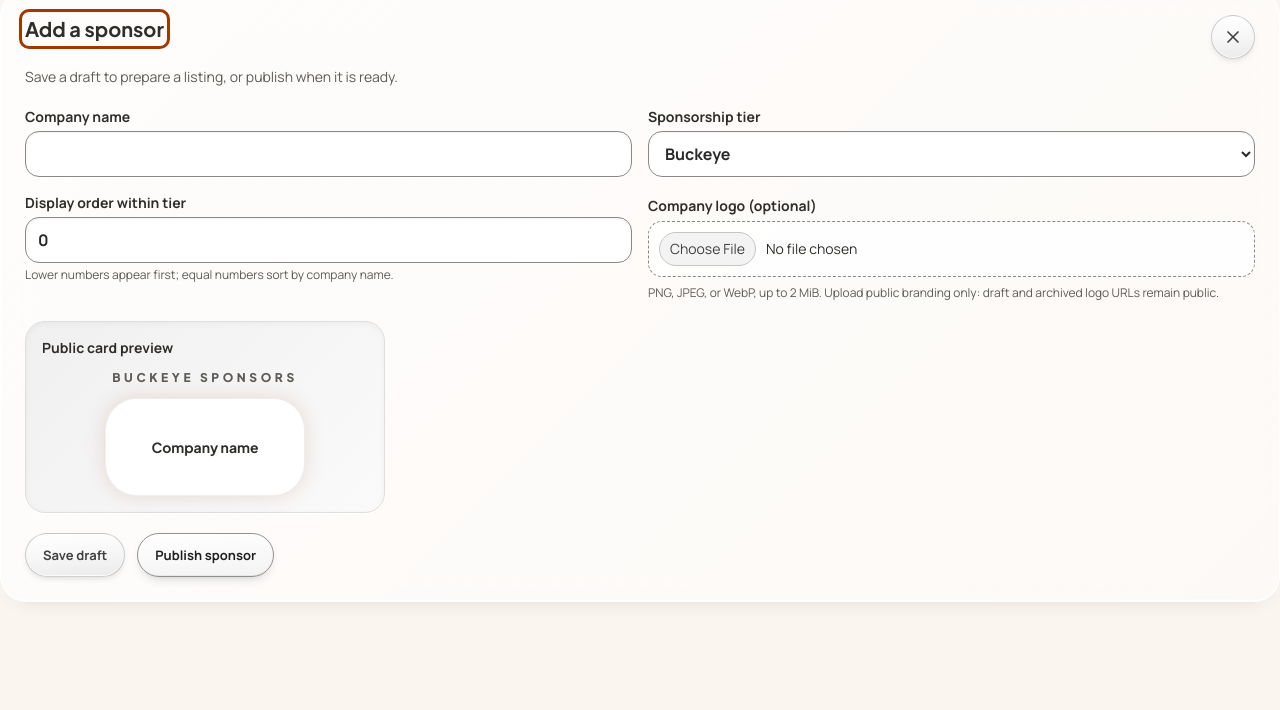
Test case: sponsor editor interactions › compares an interrupted creation with edited retry fields, then updates the existing record explicitly
The width and height of the screenshot is (1280, 710).
In the field labelled "Company name": {"x": 328, "y": 154} [25,131,632,177], type "First name"
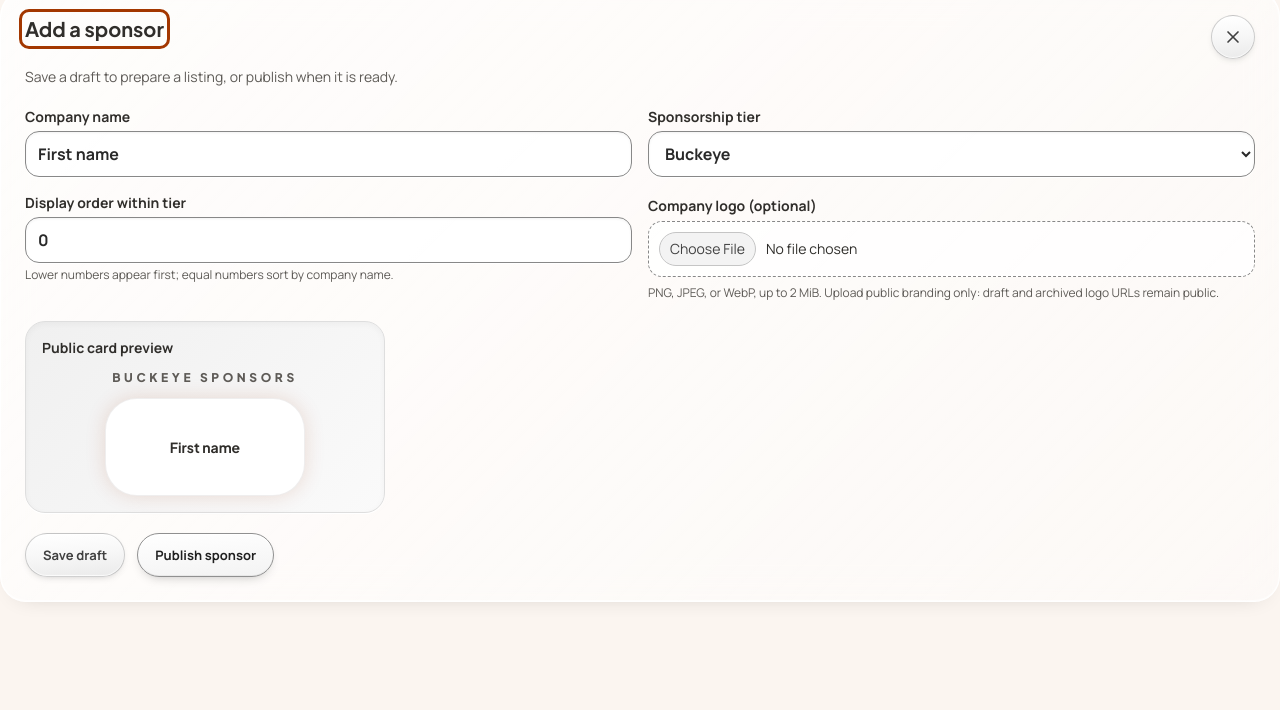
Click the button "Save draft": {"x": 75, "y": 555} [25,533,125,577]
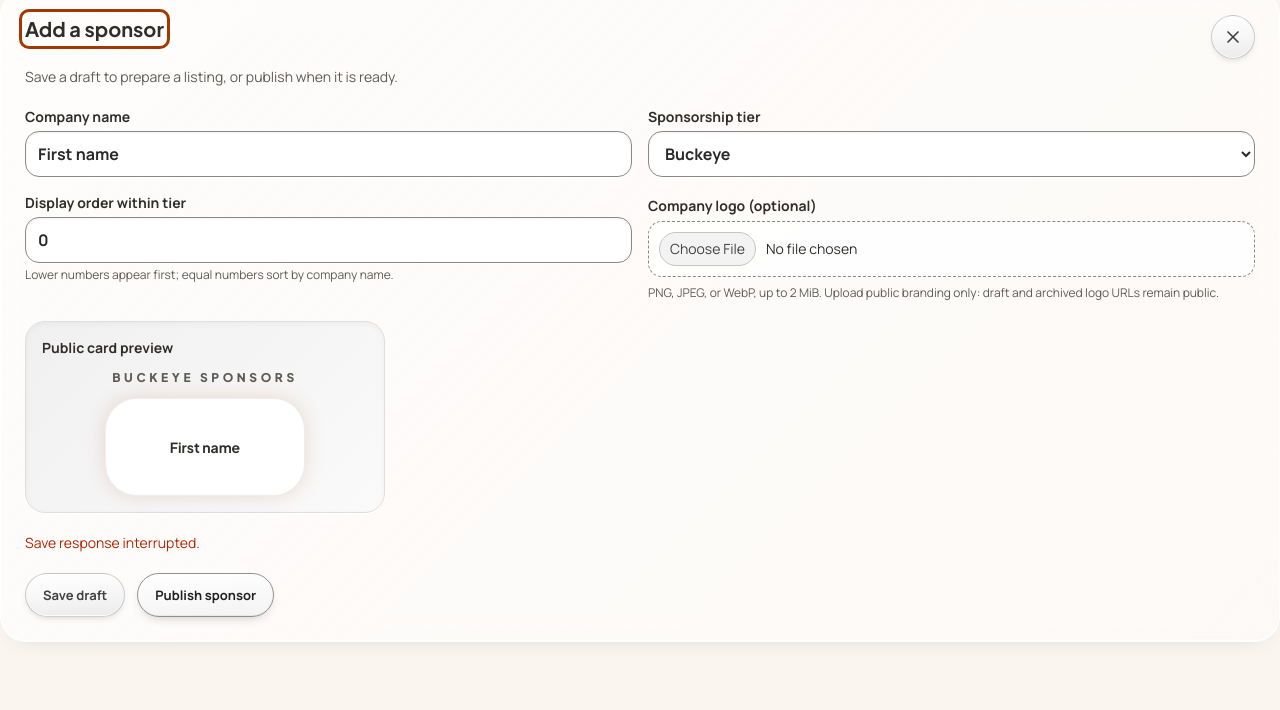
Check: the text "Save response interrupted." is shown, box [25,533,200,552]
Replace the text in the field labelled "Company name" with "Revised name": {"x": 328, "y": 154} [25,131,632,177]
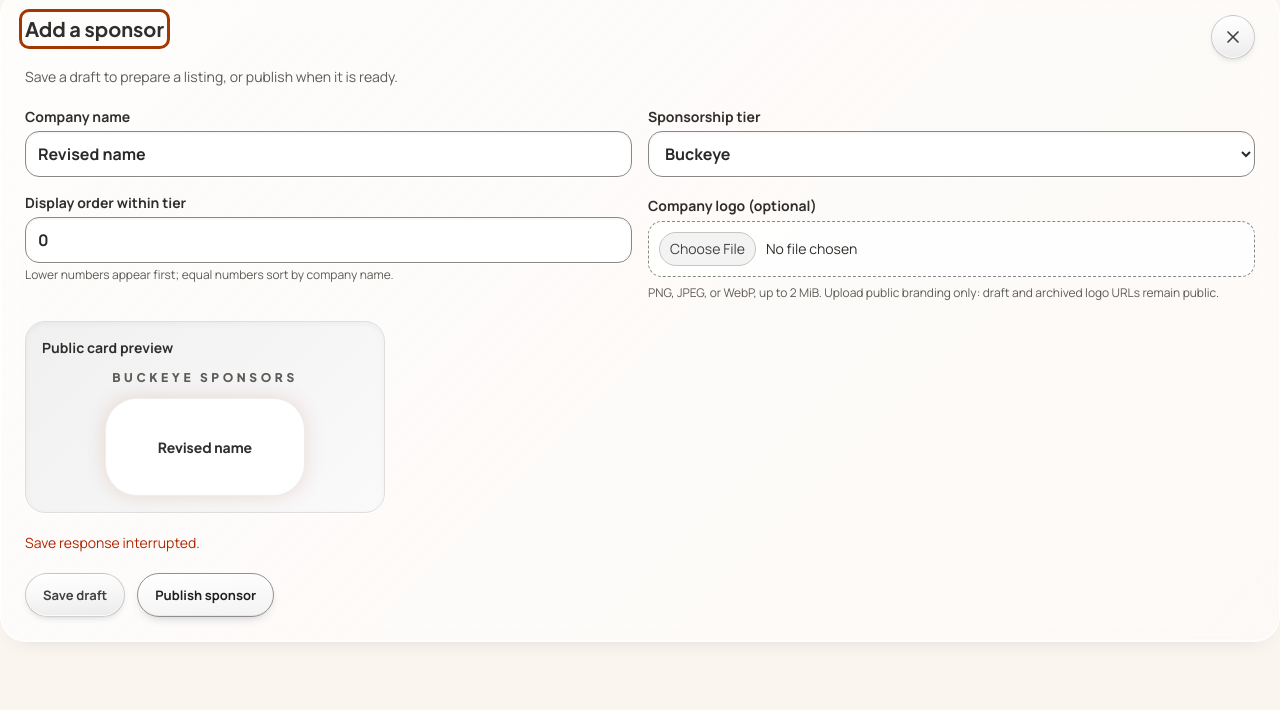
Click the button "Save draft": {"x": 75, "y": 595} [25,573,125,617]
(page scrolled)
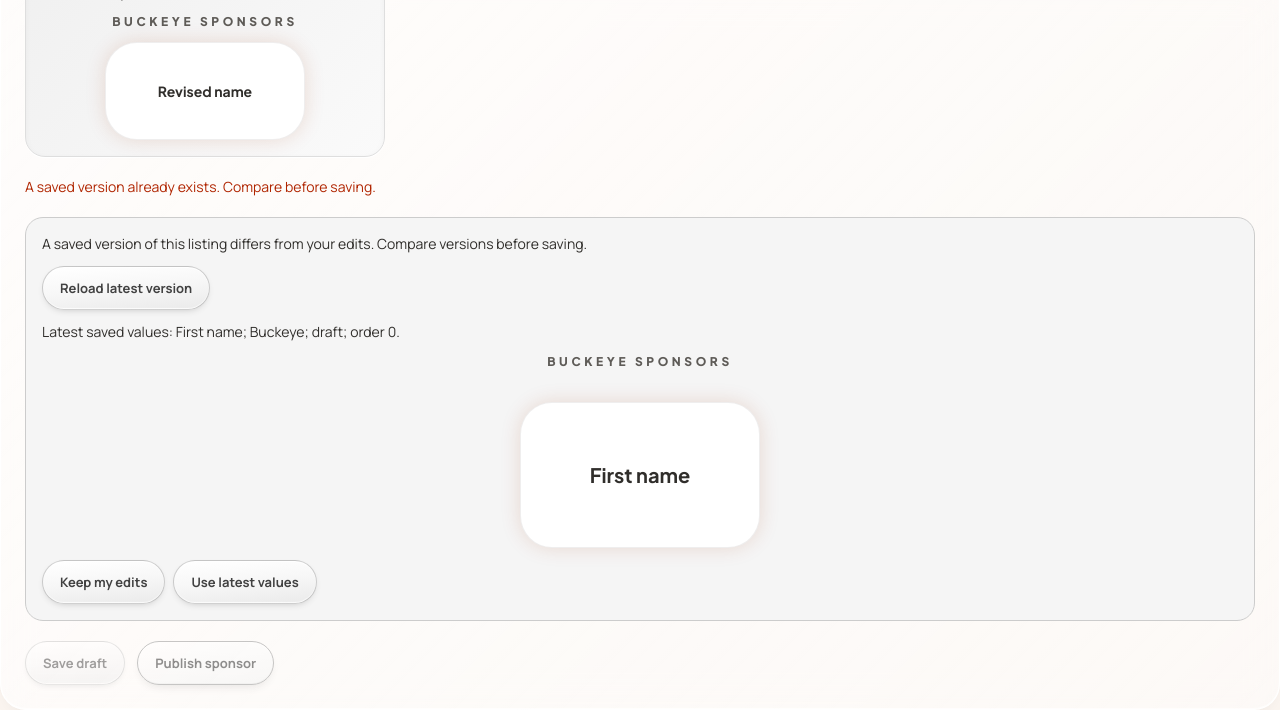
Click the button "Keep my edits": {"x": 104, "y": 582} [42,560,165,604]
(page scrolled)
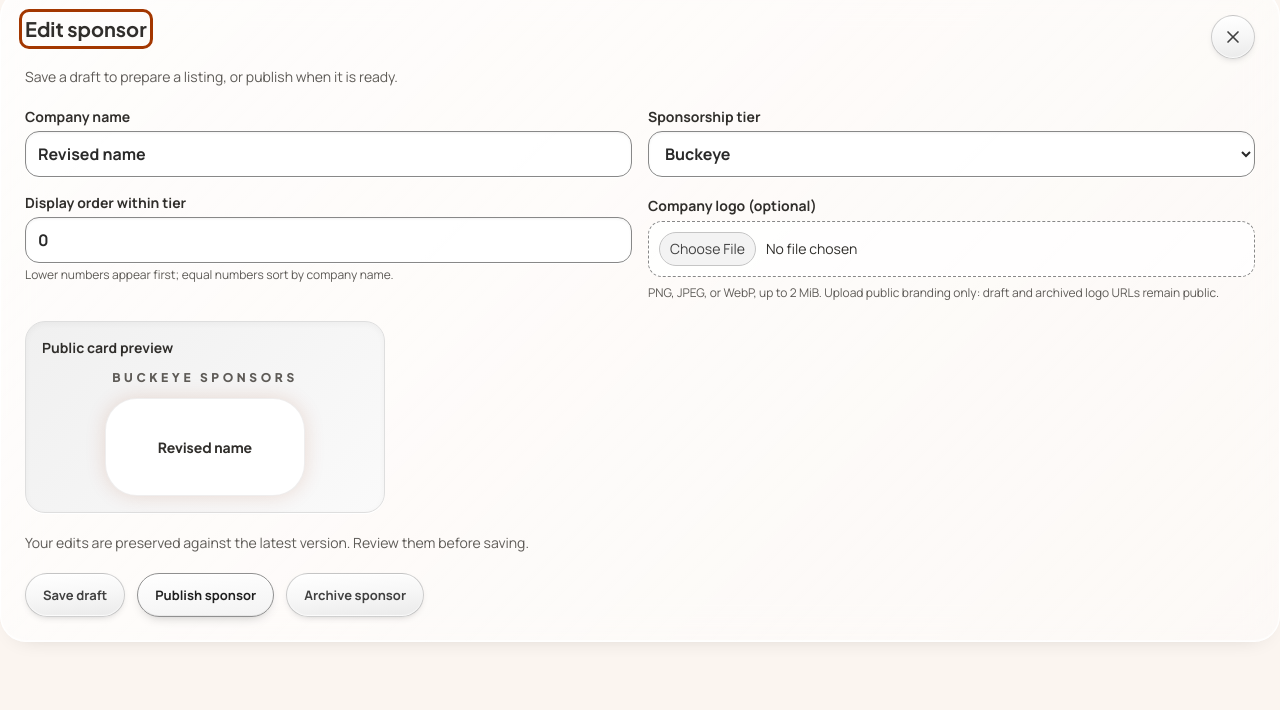
Click the button "Save draft": {"x": 75, "y": 595} [25,573,125,617]
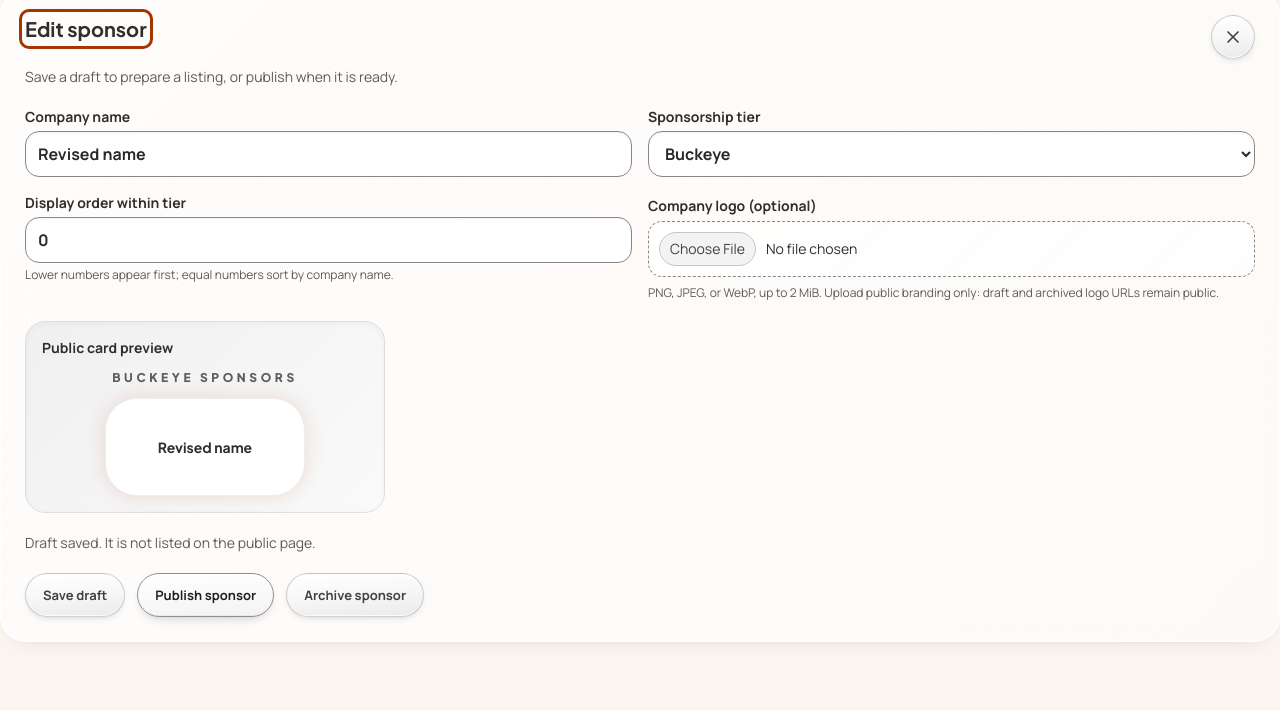
Check: the text "Revised name" is shown, box [158,438,252,456]
Check: the text "Draft saved. It is not listed on the public page." is shown, box [25,533,316,552]
